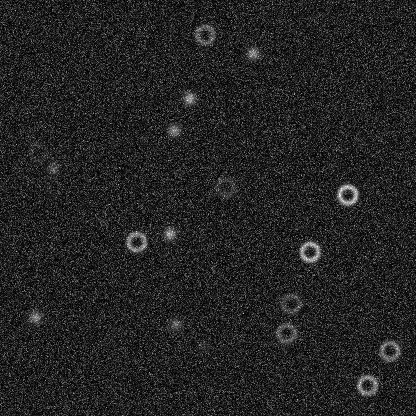Ring: (297, 239, 321, 263), (278, 291, 302, 315), (124, 229, 148, 253), (25, 139, 49, 163), (213, 175, 237, 199), (335, 182, 359, 206), (355, 372, 379, 396), (377, 338, 401, 362), (192, 22, 216, 46), (274, 320, 298, 344)
Spot: (244, 45, 260, 61), (27, 309, 43, 325), (167, 316, 183, 332), (181, 90, 197, 106), (194, 338, 210, 354), (165, 122, 181, 138), (44, 160, 60, 176), (161, 225, 177, 241)
